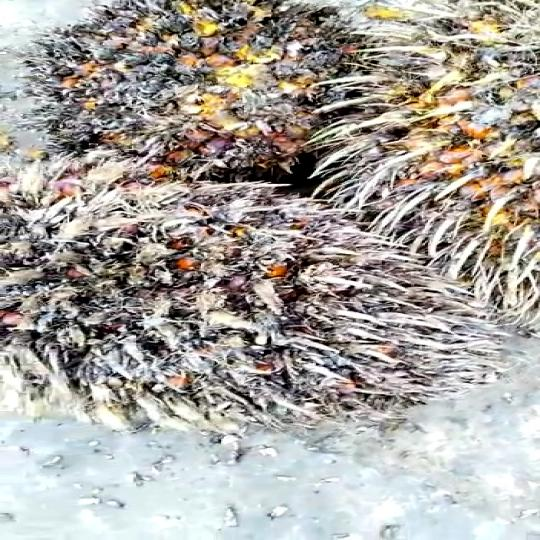terlalu masak: (0, 172, 481, 429), (36, 0, 424, 169)
